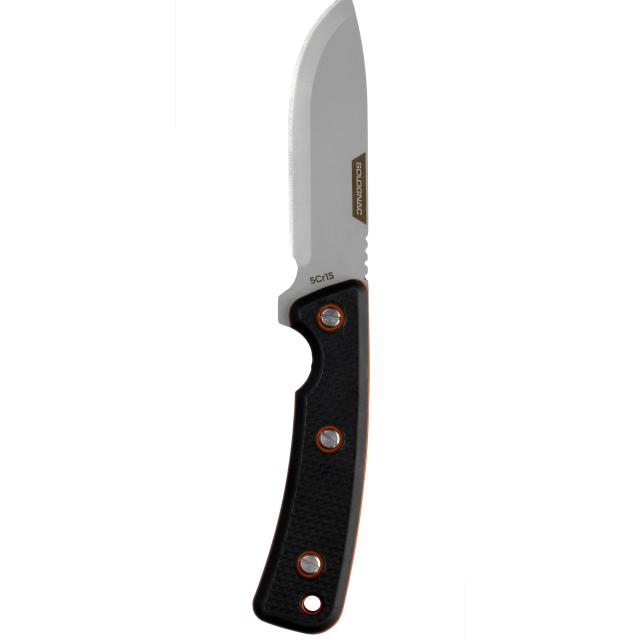Weapon: (253, 0, 369, 633)
